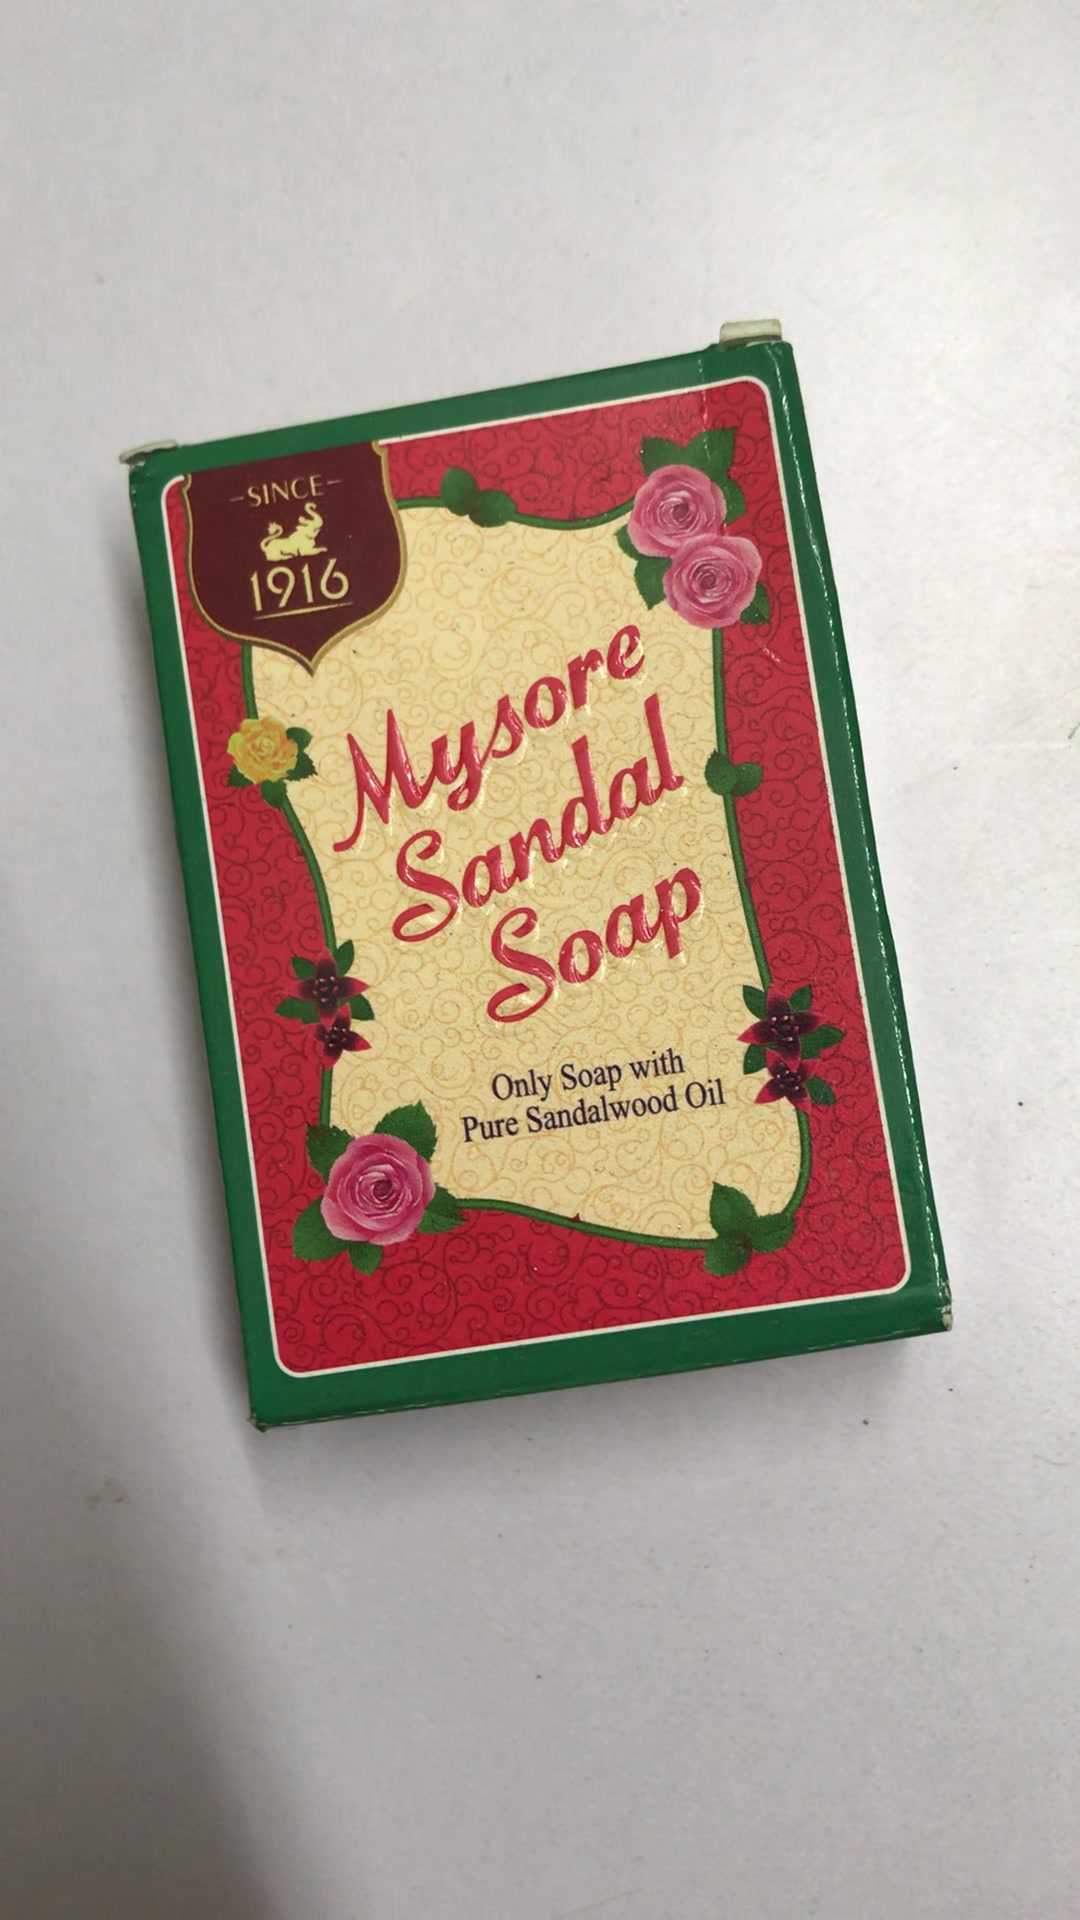mysore sandal soap: (113, 345, 957, 1431)
